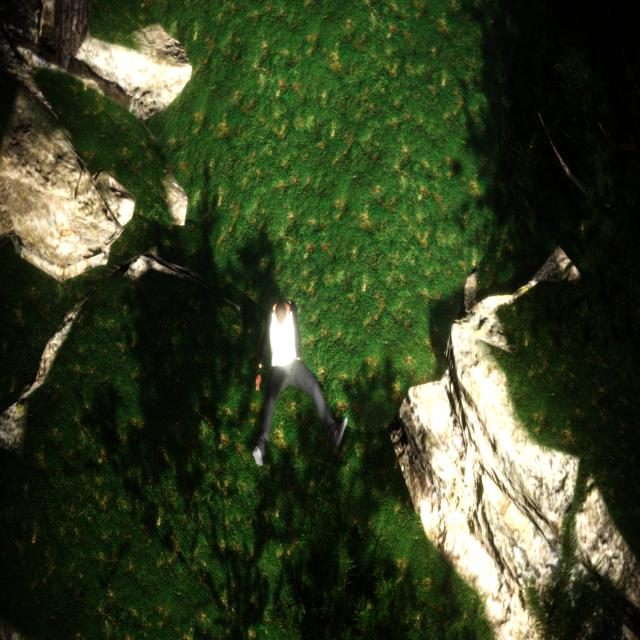Human: (247, 291, 350, 478)
